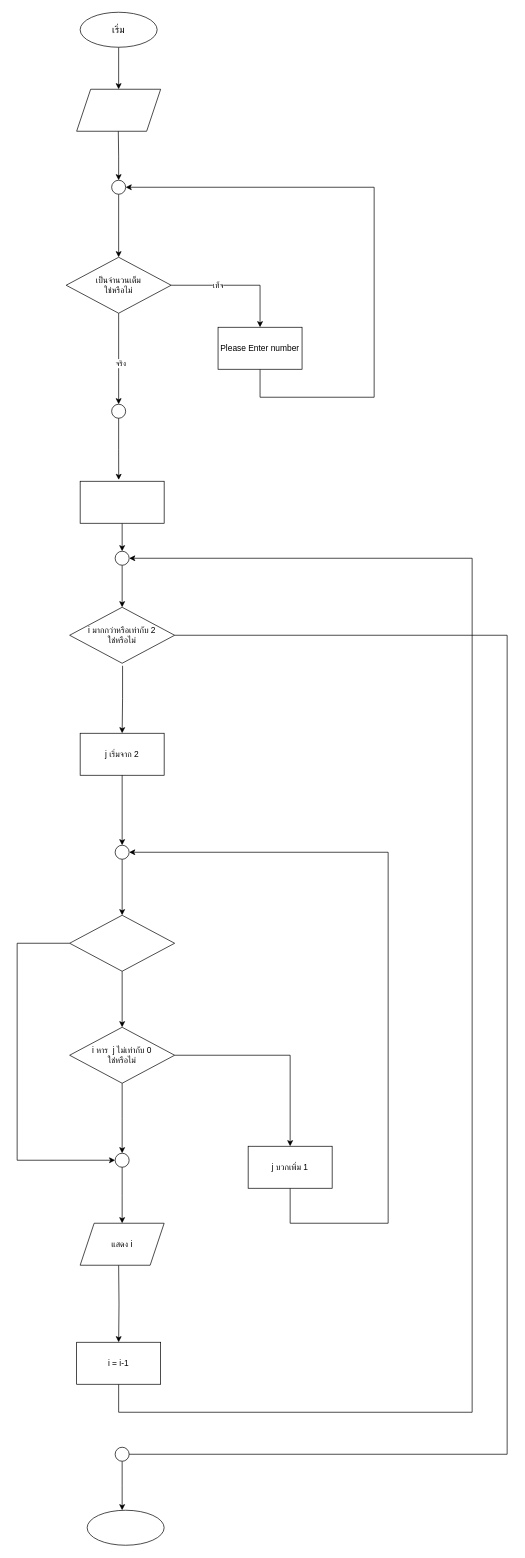
The diagram is 525 pixels wide and 1558 high, and some of its shapes have lost their labels. The centre of each missing label's shape, as x and y in pixels:
i เริ่มจาก n: (x=121, y=502)
j คูณ j น้อยกว่าหรือ เท่ากับ i ใช่หรือไม่: (x=122, y=943)
n = เก็บค่าที่ ผู้ใช้ป้อน: (x=118, y=110)
จบ: (x=125, y=1527)
